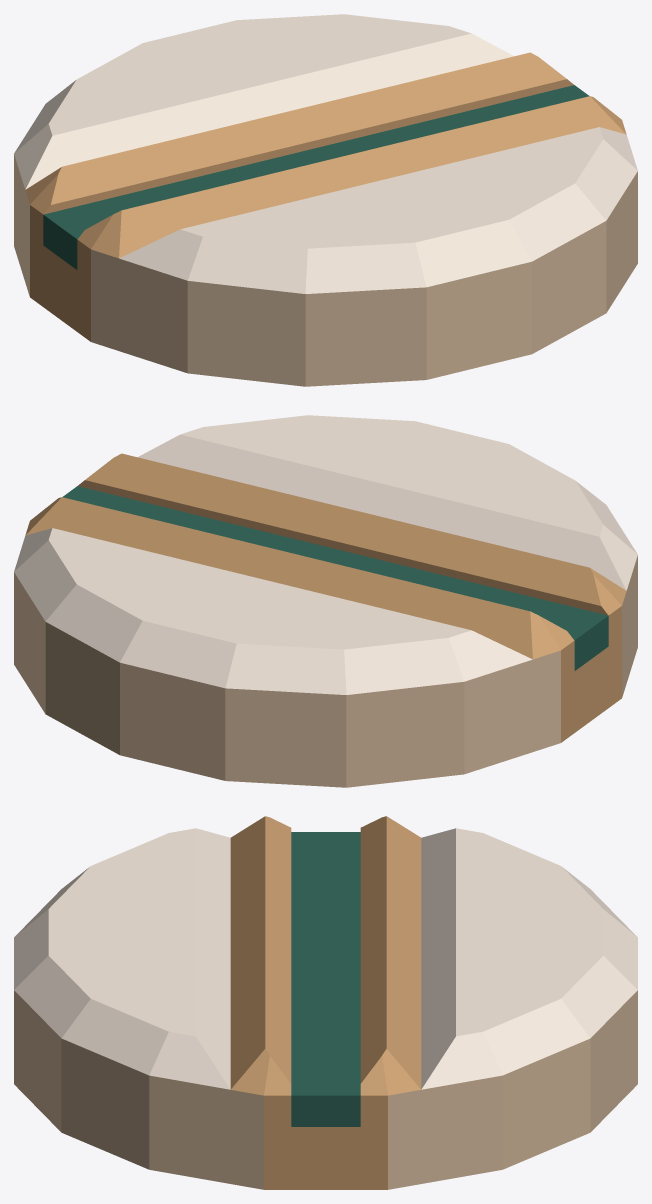
The model's file is Puzzle_Floor_Conduit_Rotating_Platform_Straight.fbx.
3 renders of one model, top to bottom at view 1: azimuth 30°, elevation 25°; view 2: azimuth 150°, elevation 25°; view 3: azimuth 270°, elevation 25°, orthographic.
Visible parts, largest first — view 1: Sandstone_Floor.Sandstone_Floor.Sandstone_Floor.Sandstone_Fl, Sandstone_Trim.Sandstone_Trim.Sandstone_Trim.Sandstone_Trim, Sandstone_5.Sandstone_5.Sandstone_5.Sandstone_5.Sandstone_5., object1; view 2: Sandstone_Floor.Sandstone_Floor.Sandstone_Floor.Sandstone_Fl, Sandstone_Trim.Sandstone_Trim.Sandstone_Trim.Sandstone_Trim, Sandstone_5.Sandstone_5.Sandstone_5.Sandstone_5.Sandstone_5., object1; view 3: Sandstone_Floor.Sandstone_Floor.Sandstone_Floor.Sandstone_Fl, Sandstone_Trim.Sandstone_Trim.Sandstone_Trim.Sandstone_Trim, Sandstone_5.Sandstone_5.Sandstone_5.Sandstone_5.Sandstone_5., object1.
Boxes of the visible parts, bbox=[...] form: Sandstone_Floor.Sandstone_Floor.Sandstone_Floor.Sandstone_Fl: bbox=[14, 14, 637, 293]; Sandstone_Trim.Sandstone_Trim.Sandstone_Trim.Sandstone_Trim: bbox=[14, 154, 637, 386]; Sandstone_5.Sandstone_5.Sandstone_5.Sandstone_5.Sandstone_5.: bbox=[25, 52, 626, 341]; object1: bbox=[43, 85, 589, 269]; Sandstone_Floor.Sandstone_Floor.Sandstone_Floor.Sandstone_Fl: bbox=[14, 415, 637, 694]; Sandstone_Trim.Sandstone_Trim.Sandstone_Trim.Sandstone_Trim: bbox=[14, 555, 637, 787]; Sandstone_5.Sandstone_5.Sandstone_5.Sandstone_5.Sandstone_5.: bbox=[25, 453, 626, 742]; object1: bbox=[62, 486, 608, 670]; Sandstone_Floor.Sandstone_Floor.Sandstone_Floor.Sandstone_Fl: bbox=[14, 828, 637, 1089]; Sandstone_Trim.Sandstone_Trim.Sandstone_Trim.Sandstone_Trim: bbox=[14, 990, 637, 1189]; Sandstone_5.Sandstone_5.Sandstone_5.Sandstone_5.Sandstone_5.: bbox=[230, 816, 421, 1189]; object1: bbox=[291, 832, 360, 1126].
Bounding box in the file's own units: 0.9 × 0.2 × 0.9.
